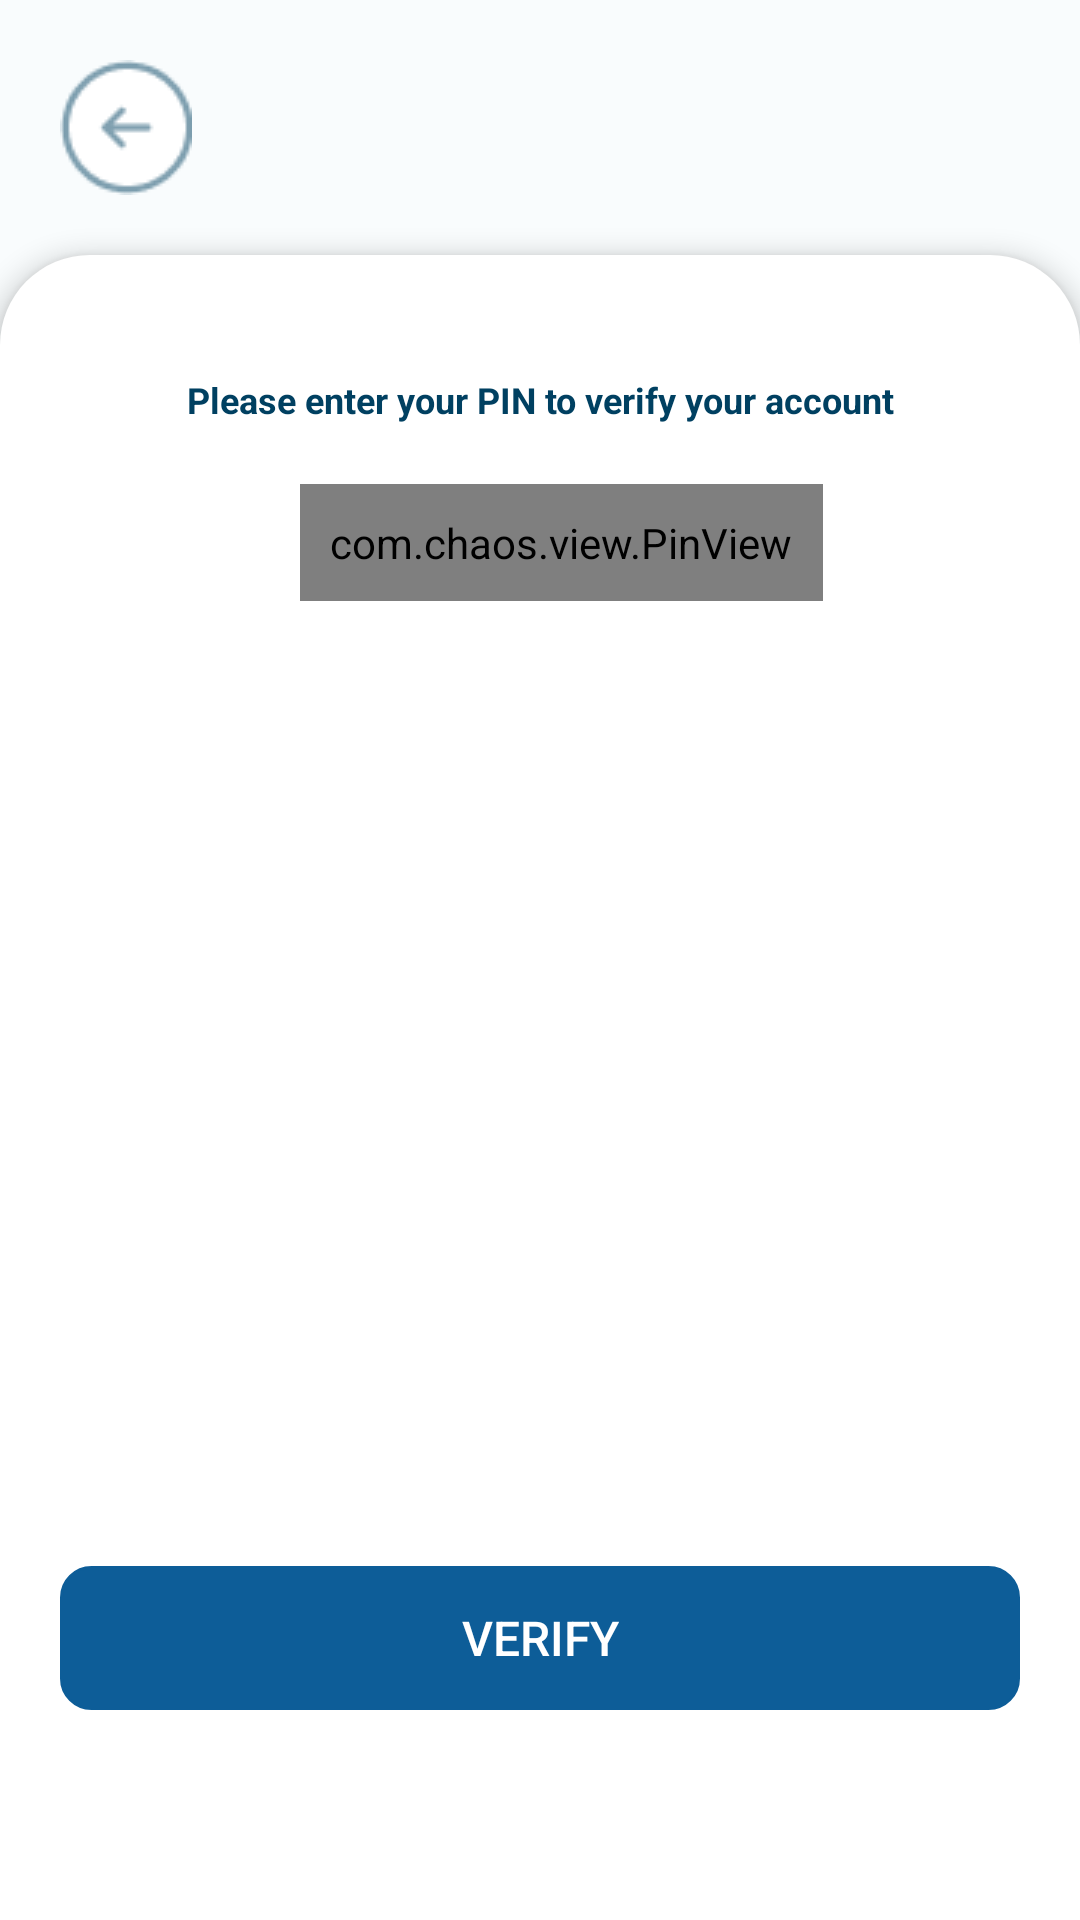

Where to tap for icons on this 1080px x 1920px app screen, as point (x, y):
meditick back: point (126, 127)
